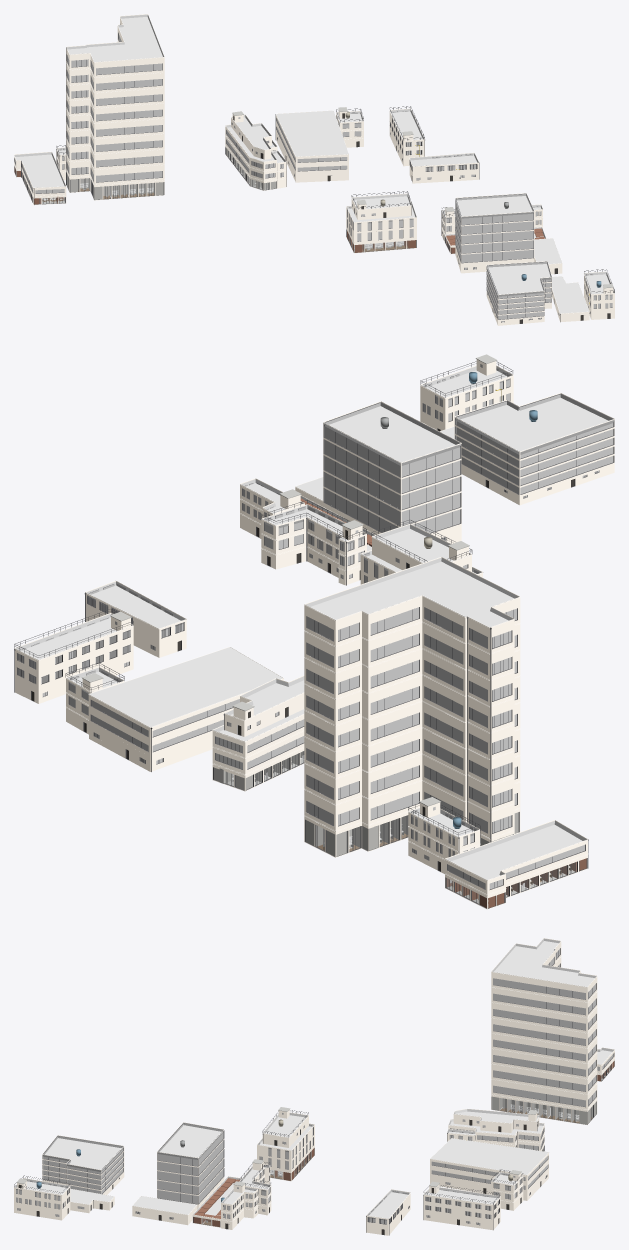
3 views of the same model, one above another, from view 1: azimuth 30°, elevation 25°; view 2: azimuth 150°, elevation 25°; view 3: azimuth 270°, elevation 25° (orthographic). The views are drawn at different scales.
Parts seen in each view (by area): view 1: 서울특별시 성동구 성수동2가 300-1, 서울특별시 성동구 성수동2가 273-37, 서울특별시 성동구 성수동2가 277-54.001, 서울특별시 성동구 성수동2가 317-1, 서울특별시 성동구 성수동2가 273-24, 서울특별시 성동구 성수동2가 277-81.001, 서울특별시 성동구 성수동2가 300-2.002, 서울특별시 성동구 성수동2가 277-141.008, 서울특별시 성동구 성수동2가 277-55.005, 서울특별시 성동구 성수동2가 273-18, 서울특별시 성동구 성수동2가 273-35, 서울특별시 성동구 성수동2가 277-54 (+1 smaller); view 2: 서울특별시 성동구 성수동2가 300-1, 서울특별시 성동구 성수동2가 273-37, 서울특별시 성동구 성수동2가 277-54.001, 서울특별시 성동구 성수동2가 273-24, 서울특별시 성동구 성수동2가 277-81.001, 서울특별시 성동구 성수동2가 300-2.002, 서울특별시 성동구 성수동2가 277-55.005, 서울특별시 성동구 성수동2가 273-17.002, 서울특별시 성동구 성수동2가 277-141.008, 서울특별시 성동구 성수동2가 273-35, 서울특별시 성동구 성수동2가 317-1, 서울특별시 성동구 성수동2가 300-39 (+2 smaller); view 3: 서울특별시 성동구 성수동2가 300-1, 서울특별시 성동구 성수동2가 277-54.001, 서울특별시 성동구 성수동2가 273-37, 서울특별시 성동구 성수동2가 273-24, 서울특별시 성동구 성수동2가 317-1, 서울특별시 성동구 성수동2가 277-81.001, 서울특별시 성동구 성수동2가 277-55.005, 서울특별시 성동구 성수동2가 273-35, 서울특별시 성동구 성수동2가 277-141.008, 서울특별시 성동구 성수동2가 273-52, 서울특별시 성동구 성수동2가 273-17.001, 서울특별시 성동구 성수동2가 273-17 (+4 smaller).
Part boxes in pixels (left/top/right/bottom): 서울특별시 성동구 성수동2가 300-1: left=66, top=14, right=164, bottom=200; 서울특별시 성동구 성수동2가 273-37: left=455, top=193, right=534, bottom=273; 서울특별시 성동구 성수동2가 277-54.001: left=275, top=110, right=348, bottom=182; 서울특별시 성동구 성수동2가 317-1: left=346, top=191, right=416, bottom=253; 서울특별시 성동구 성수동2가 273-24: left=486, top=261, right=551, bottom=325; 서울특별시 성동구 성수동2가 277-81.001: left=225, top=114, right=277, bottom=190; 서울특별시 성동구 성수동2가 300-2.002: left=14, top=151, right=66, bottom=204; 서울특별시 성동구 성수동2가 277-141.008: left=409, top=152, right=479, bottom=183; 서울특별시 성동구 성수동2가 277-55.005: left=389, top=106, right=424, bottom=166; 서울특별시 성동구 성수동2가 273-18: left=552, top=276, right=589, bottom=322; 서울특별시 성동구 성수동2가 273-35: left=583, top=269, right=614, bottom=319; 서울특별시 성동구 성수동2가 277-54: left=336, top=108, right=363, bottom=147; 서울특별시 성동구 성수동2가 300-1: left=304, top=557, right=520, bottom=857; 서울특별시 성동구 성수동2가 273-37: left=323, top=401, right=461, bottom=543; 서울특별시 성동구 성수동2가 277-54.001: left=88, top=647, right=283, bottom=771; 서울특별시 성동구 성수동2가 273-24: left=454, top=393, right=614, bottom=505; 서울특별시 성동구 성수동2가 277-81.001: left=212, top=675, right=304, bottom=791; 서울특별시 성동구 성수동2가 300-2.002: left=445, top=820, right=588, bottom=909; 서울특별시 성동구 성수동2가 277-55.005: left=14, top=608, right=133, bottom=703; 서울특별시 성동구 성수동2가 273-17.002: left=261, top=500, right=367, bottom=585; 서울특별시 성동구 성수동2가 277-141.008: left=84, top=580, right=186, bottom=657; 서울특별시 성동구 성수동2가 273-35: left=420, top=361, right=513, bottom=431; 서울특별시 성동구 성수동2가 317-1: left=360, top=519, right=483, bottom=584; 서울특별시 성동구 성수동2가 300-39: left=408, top=803, right=480, bottom=873; 서울특별시 성동구 성수동2가 300-1: left=491, top=938, right=597, bottom=1124; 서울특별시 성동구 성수동2가 277-54.001: left=430, top=1138, right=548, bottom=1200; 서울특별시 성동구 성수동2가 273-37: left=157, top=1122, right=224, bottom=1208; 서울특별시 성동구 성수동2가 273-24: left=42, top=1135, right=124, bottom=1194; 서울특별시 성동구 성수동2가 317-1: left=257, top=1110, right=314, bottom=1181; 서울특별시 성동구 성수동2가 277-81.001: left=448, top=1108, right=544, bottom=1151; 서울특별시 성동구 성수동2가 277-55.005: left=423, top=1185, right=500, bottom=1230; 서울특별시 성동구 성수동2가 273-35: left=14, top=1175, right=70, bottom=1220; 서울특별시 성동구 성수동2가 277-141.008: left=366, top=1189, right=410, bottom=1235; 서울특별시 성동구 성수동2가 273-52: left=132, top=1196, right=197, bottom=1225; 서울특별시 성동구 성수동2가 273-17.001: left=221, top=1186, right=258, bottom=1229; 서울특별시 성동구 성수동2가 273-17: left=192, top=1176, right=241, bottom=1227.
Bounding box in the file's own units: 149 × 53.65 × 212.
